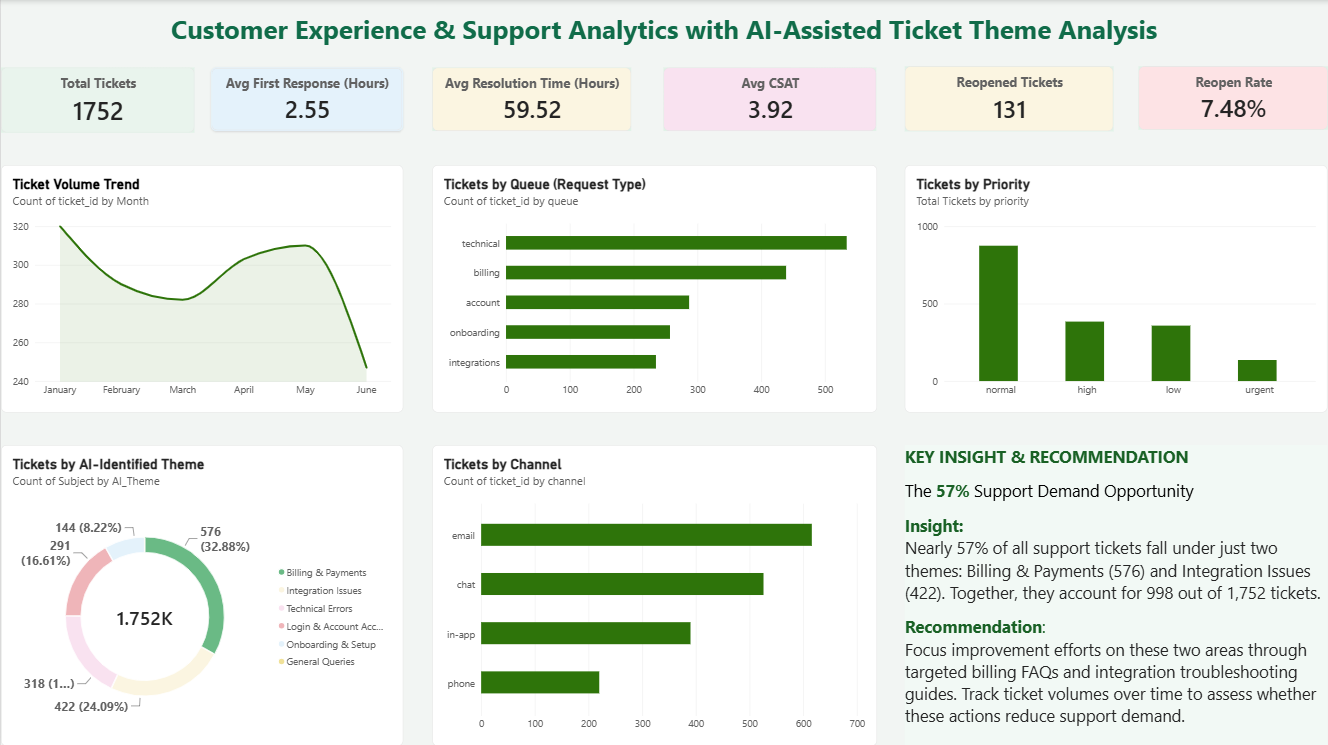

The dashboard page shown, as its layout file describes it:
{"tool":"powerbi","page":{"name":"Page 1","canvas":[1920,1080],"ordinal":0},"visuals":[{"type":"cardVisual","fields":{"Data":["Customer_Support_Analytics_Working xlsx.Avg First Response (Hours)"]},"box":[304,98,278,92],"z":0},{"type":"cardVisual","fields":{"Data":["Customer_Support_Analytics_Working xlsx.Avg Resolution Time (Hours)"]},"box":[624,98,288,92],"z":1000},{"type":"cardVisual","fields":{"Data":["Customer_Support_Analytics_Working xlsx.Avg CSAT"]},"box":[960,98,308,92],"z":2000},{"type":"lineChart","title":"Ticket Volume Trend","fields":{"Category":["Customer_Support_Analytics_Working xlsx.opened_at.Variation.Date Hierarchy.Month"],"Y":["CountNonNull(Customer_Support_Analytics_Working xlsx.ticket_id)"]},"box":[0,238,582,358],"z":3000},{"type":"clusteredBarChart","title":"Tickets by Queue (Request Type)","fields":{"Category":["Customer_Support_Analytics_Working xlsx.queue"],"Y":["CountNonNull(Customer_Support_Analytics_Working xlsx.ticket_id)"]},"box":[624,238,644,358],"z":4000},{"type":"donutChart","title":"Tickets by AI-Identified Theme","fields":{"Category":["Ticket_Subject_AI_Theme.AI_Theme"],"Y":["CountNonNull(Ticket_Subject_AI_Theme.Subject)"]},"box":[0,644,582,436],"z":5000},{"type":"clusteredColumnChart","title":"Tickets by Priority","fields":{"Category":["Customer_Support_Analytics_Working xlsx.priority"],"Y":["Customer_Support_Analytics_Working xlsx.Total Tickets"]},"box":[1308,238,612,358],"z":6000},{"type":"cardVisual","fields":{"Data":["Customer_Support_Analytics_Working xlsx.Reopen Rate"]},"box":[1646,96,274,92],"z":7000},{"type":"cardVisual","fields":{"Data":["Customer_Support_Analytics_Working xlsx.Reopened Tickets"]},"box":[1308,96,302,94],"z":8000},{"type":"clusteredBarChart","title":"Tickets by Channel","fields":{"Category":["Customer_Support_Analytics_Working xlsx.channel"],"Y":["CountNonNull(Customer_Support_Analytics_Working xlsx.ticket_id)"]},"box":[624,644,644,436],"z":9000},{"type":"textbox","box":[0,16,1920,56],"z":10000},{"type":"cardVisual","fields":{"Data":["Customer_Support_Analytics_Working xlsx.Total Tickets"]},"box":[0,98,280,94],"z":11000},{"type":"textbox","box":[1308,644,612,436],"z":12000}]}

Visuals, with their boxes in screenshot pixels (x1, y1, x2, y2), scaled from the page's 1920x1080 canvas onto the 1328x745 screenshot:
cardVisual - Customer_Support_Analytics_Working xlsx.Avg First Response (Hours): (210,68,403,131)
cardVisual - Customer_Support_Analytics_Working xlsx.Avg Resolution Time (Hours): (432,68,631,131)
cardVisual - Customer_Support_Analytics_Working xlsx.Avg CSAT: (664,68,877,131)
"Ticket Volume Trend" lineChart: (0,164,403,411)
"Tickets by Queue (Request Type)" clusteredBarChart: (432,164,877,411)
"Tickets by AI-Identified Theme" donutChart: (0,444,403,744)
"Tickets by Priority" clusteredColumnChart: (905,164,1327,411)
cardVisual - Customer_Support_Analytics_Working xlsx.Reopen Rate: (1138,66,1327,130)
cardVisual - Customer_Support_Analytics_Working xlsx.Reopened Tickets: (905,66,1114,131)
"Tickets by Channel" clusteredBarChart: (432,444,877,744)
textbox: (0,11,1327,50)
cardVisual - Customer_Support_Analytics_Working xlsx.Total Tickets: (0,68,194,132)
textbox: (905,444,1327,744)
